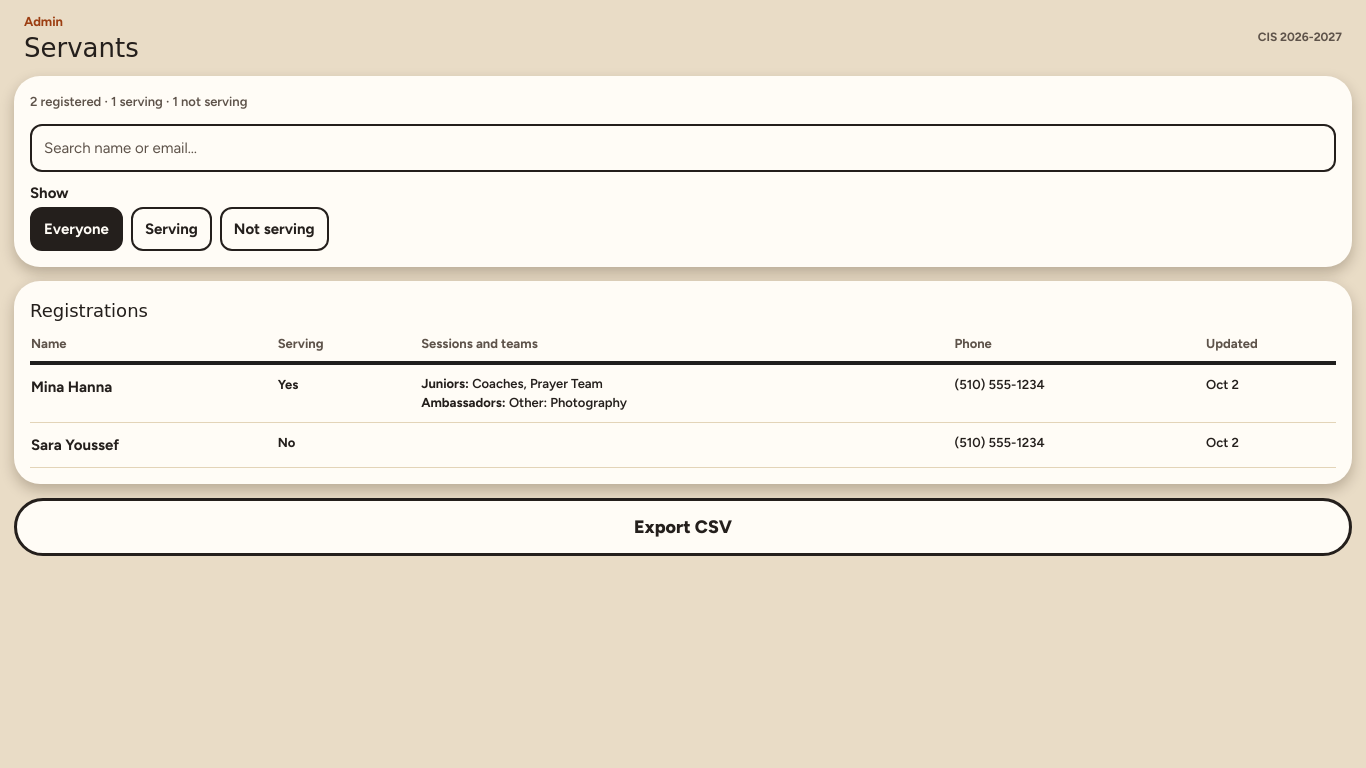
Admin servants list › opens a row to every field, and closes it again
The width and height of the screenshot is (1366, 768).
Check: the text "1 Main St, Hayward, CA" is not shown
Click the button "Mina Hanna".
click(72, 388)  # box x1=31 y1=378 x2=112 y2=398
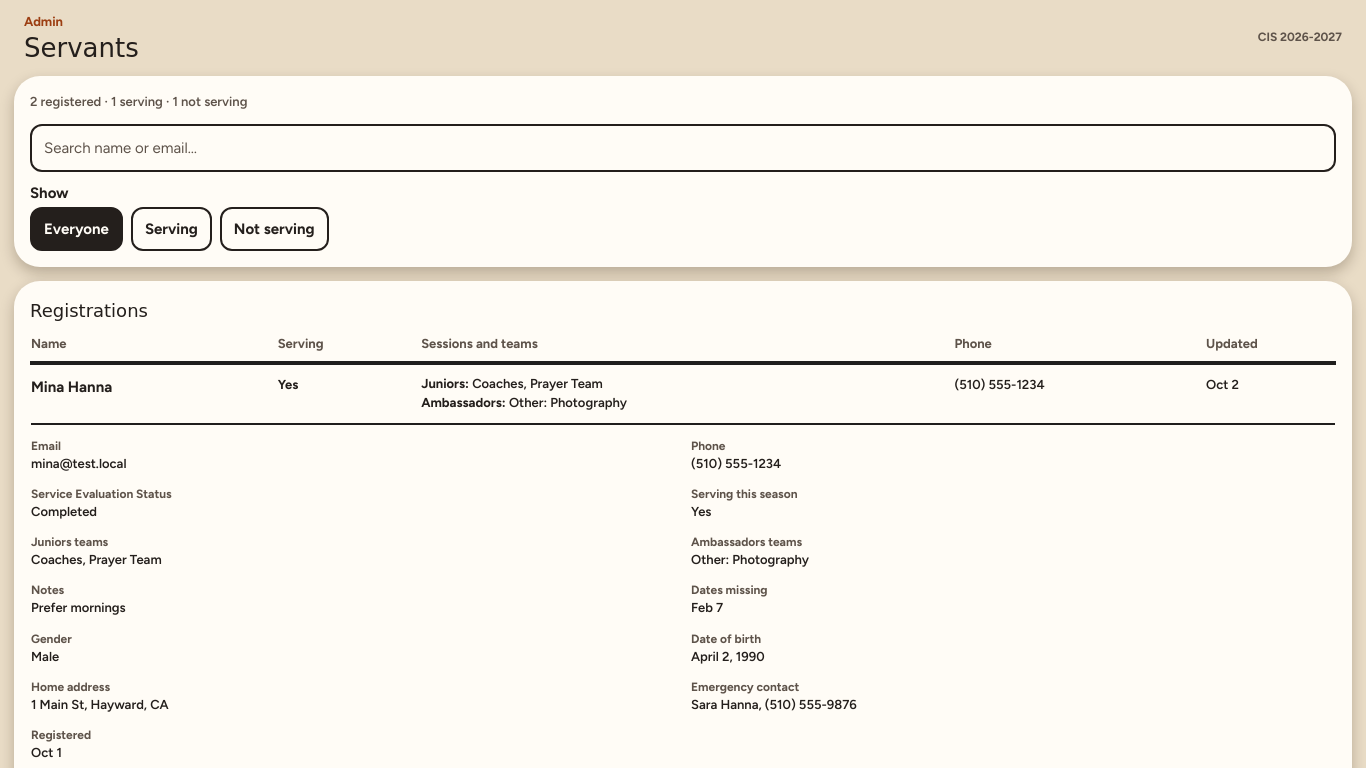
Check: the text "mina@test.local" is shown, box x1=31 y1=456 x2=126 y2=471
Check: the text "Completed" is shown, box x1=31 y1=504 x2=97 y2=519
Check: the text "Prefer mornings" is shown, box x1=31 y1=600 x2=126 y2=615
Click the button "Mina Hanna".
click(72, 388)  # box x1=31 y1=378 x2=112 y2=398
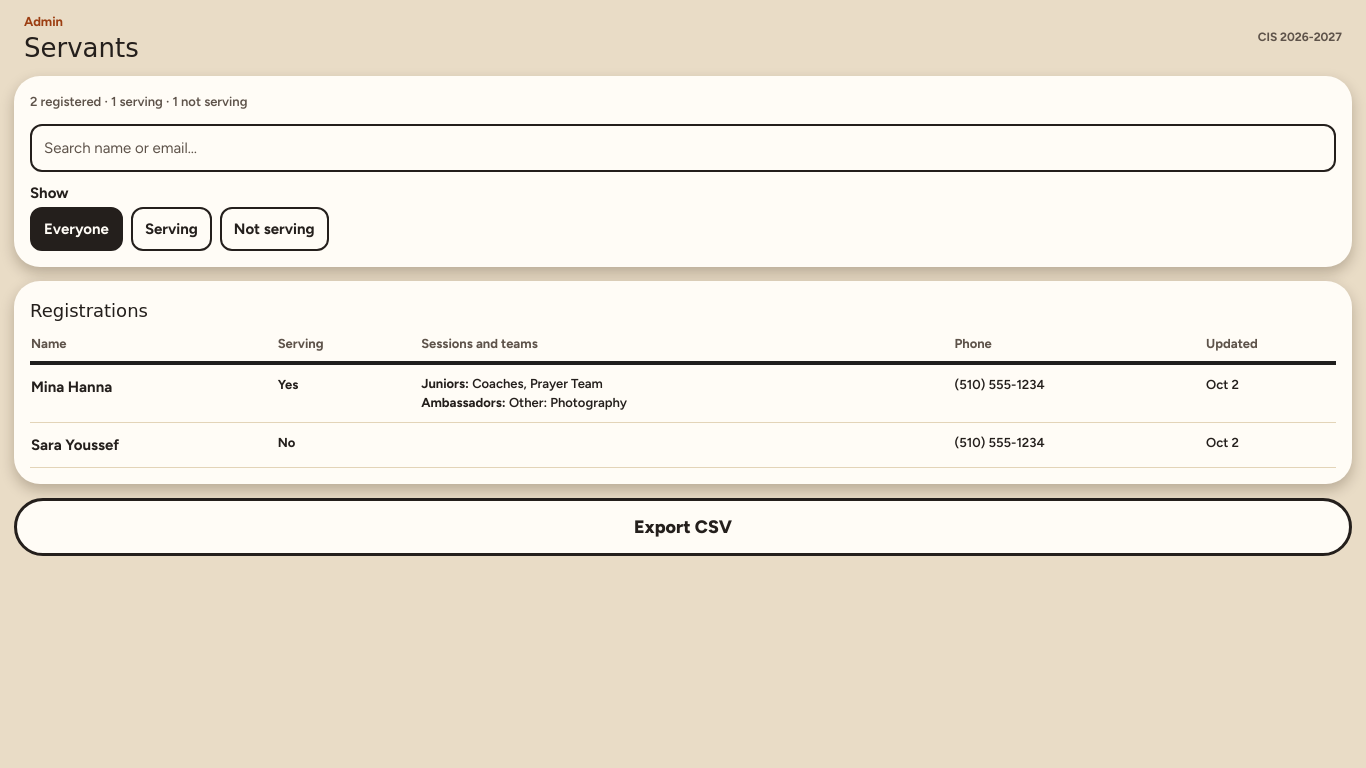
Check: the text "1 Main St, Hayward, CA" is gone
